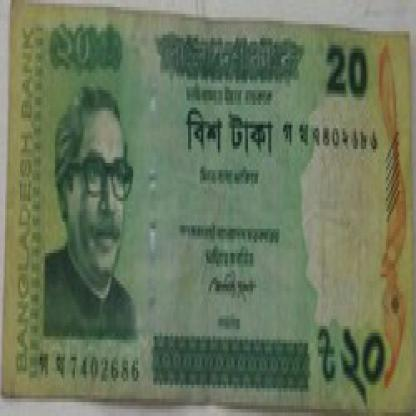Twenty: (314, 316, 388, 402), (51, 24, 140, 87), (180, 111, 276, 163), (325, 35, 376, 94)
